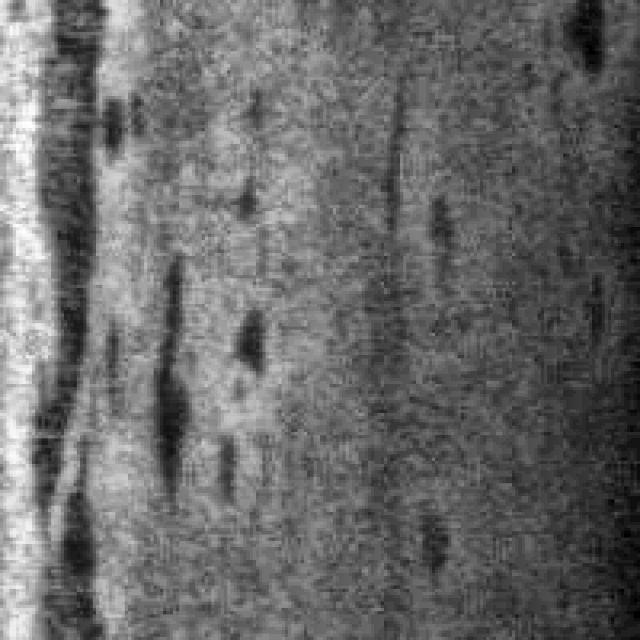Patches: (19, 3, 125, 627), (134, 240, 212, 522), (364, 70, 422, 246), (218, 307, 282, 403)
